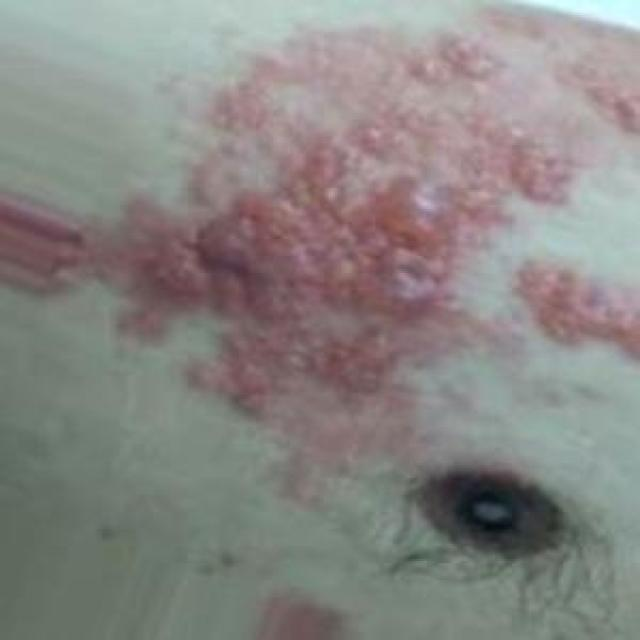Shingles: (158, 42, 570, 414), (512, 244, 640, 370), (584, 75, 640, 132)
